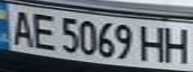0: (75, 18, 96, 56)
5: (54, 15, 81, 55)
6: (93, 20, 118, 60)
9: (112, 21, 139, 61)
A: (6, 7, 39, 47)
E: (27, 11, 60, 51)
H: (136, 22, 169, 63), (160, 25, 193, 65)
